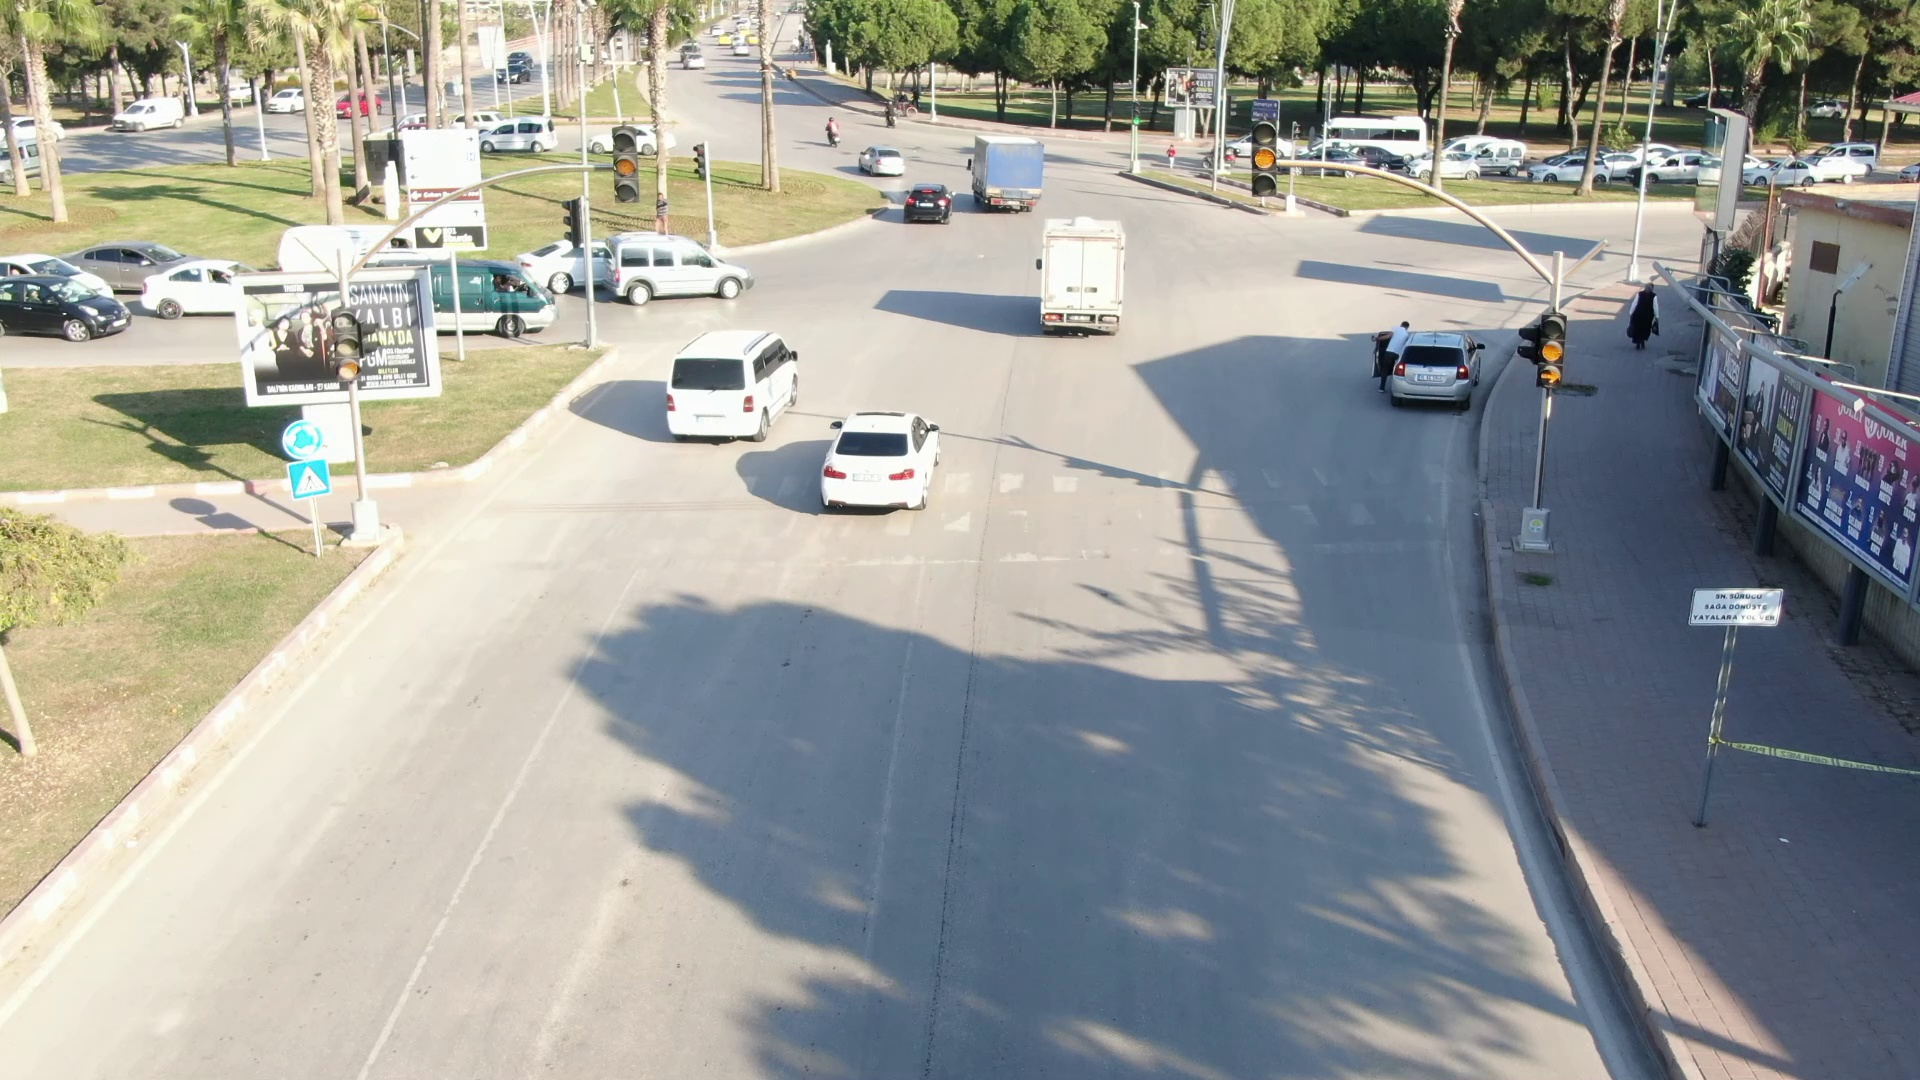car: (653, 301, 810, 455), (810, 396, 957, 524), (1033, 210, 1135, 342), (606, 227, 754, 312), (1397, 332, 1491, 408), (961, 130, 1050, 210), (903, 175, 959, 231), (847, 136, 907, 178)
person: (1376, 314, 1409, 400), (1624, 277, 1663, 347)
